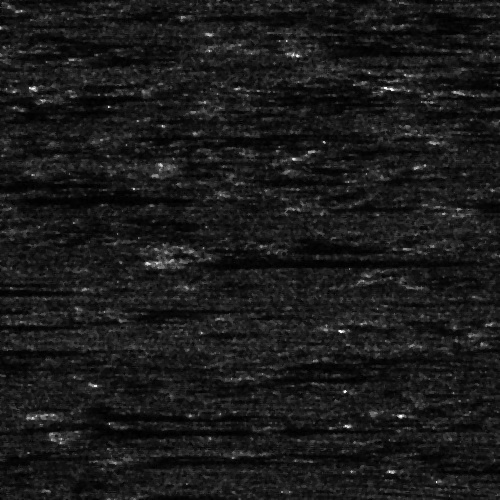object: (14, 408, 129, 417), (149, 243, 242, 250), (88, 456, 151, 461), (284, 28, 325, 33), (0, 498, 101, 500), (76, 423, 87, 440), (402, 467, 423, 472), (0, 195, 5, 202)
shadow: (81, 423, 282, 440), (72, 408, 269, 417), (0, 195, 153, 202), (120, 456, 279, 461), (305, 28, 451, 33), (23, 498, 279, 500), (310, 49, 411, 54), (413, 467, 500, 472), (196, 243, 241, 250), (0, 288, 37, 293)
